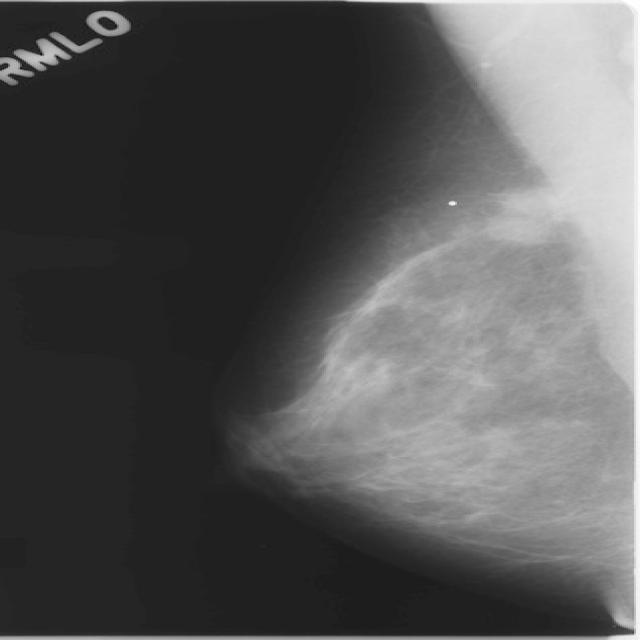tumour: (483, 182, 574, 243)
